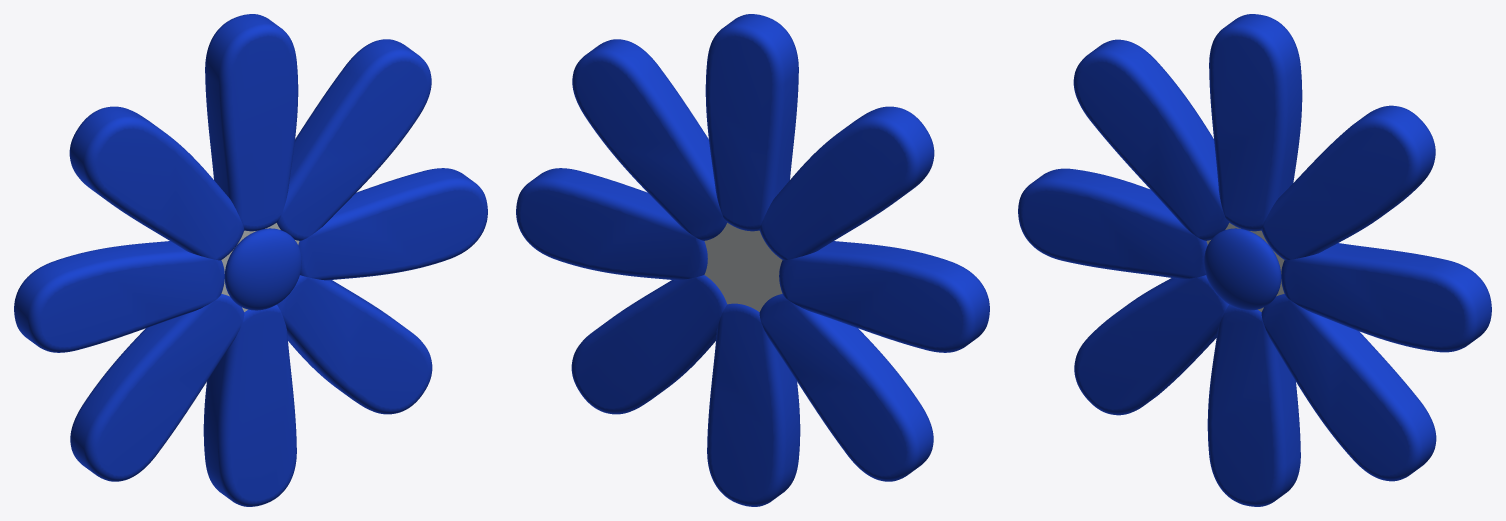
The model's file is webdecor-asterisk.glb.
3 renders of one model, left to right at view 1: azimuth 30°, elevation 25°; view 2: azimuth 150°, elevation 25°; view 3: azimuth 330°, elevation 25°, orthographic.
Visible parts, largest first — view 1: Petal_5, Petal_2, Petal_4, Petal_1, Petal_3, Petal_6, Petal_0, Petal_7, Ceramic_Cap; view 2: Petal_5, Petal_2, Petal_4, Petal_1, Petal_3, Petal_6, Petal_0, Petal_7, Central_Hub; view 3: Petal_2, Petal_7, Petal_3, Petal_0, Petal_1, Petal_6, Petal_4, Petal_5, Ceramic_Cap.
Boxes of the visible parts, x1,y1,x2,y2 form: Petal_5: (70,294,244,481); Petal_2: (205,14,298,231); Petal_4: (14,241,224,352); Petal_1: (276,39,431,240); Petal_3: (69,106,244,260); Petal_6: (203,304,296,506); Petal_0: (298,168,487,280); Petal_7: (277,275,432,414); Ceramic_Cap: (224,228,301,310); Petal_5: (759,294,933,481); Petal_2: (705,14,798,231); Petal_4: (779,241,989,352); Petal_1: (572,39,727,240); Petal_3: (759,106,934,260); Petal_6: (707,303,800,506); Petal_0: (516,168,707,280); Petal_7: (571,275,727,414); Central_Hub: (704,223,782,311); Petal_2: (1209,14,1302,231); Petal_7: (1261,294,1436,481); Petal_3: (1073,39,1229,240); Petal_0: (1281,243,1491,352); Petal_1: (1261,105,1435,260); Petal_6: (1207,304,1300,506); Petal_4: (1018,168,1207,278); Petal_5: (1074,275,1228,415); Ceramic_Cap: (1204,228,1281,310).
Bounding box in the file's own units: 4.74 × 4.74 × 0.5682.
